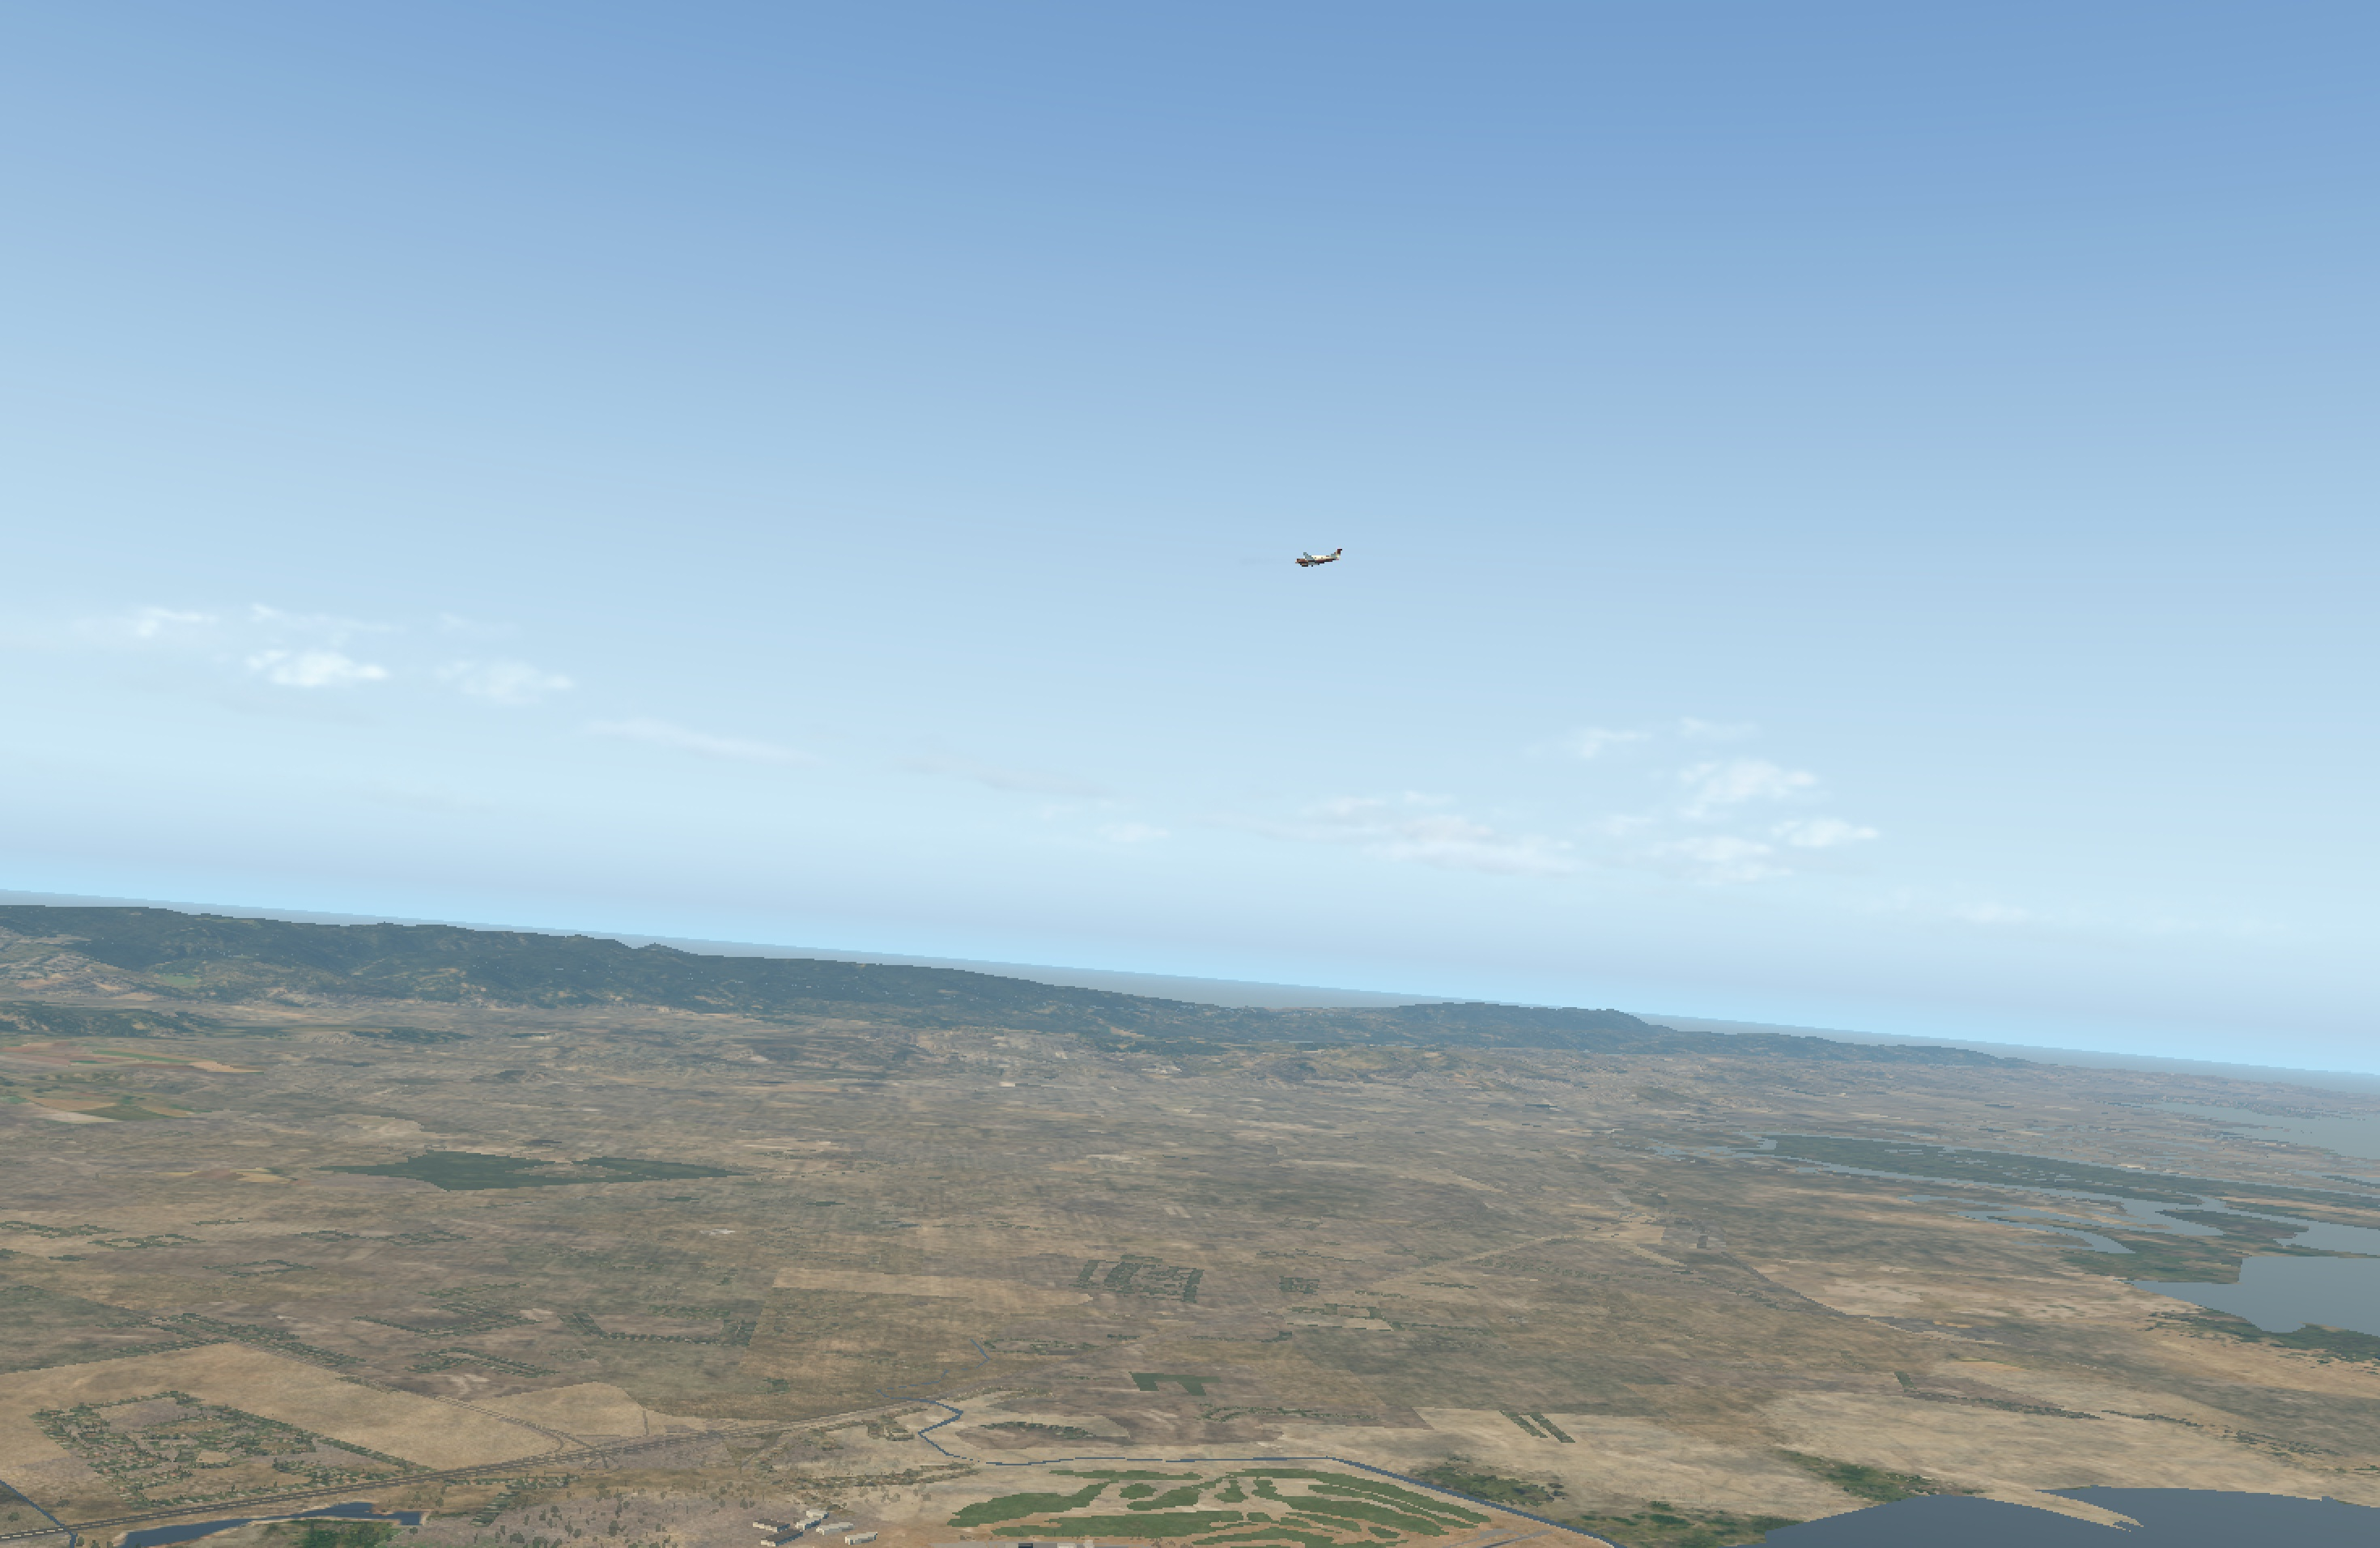aircraft: (1275, 550, 1344, 576)
